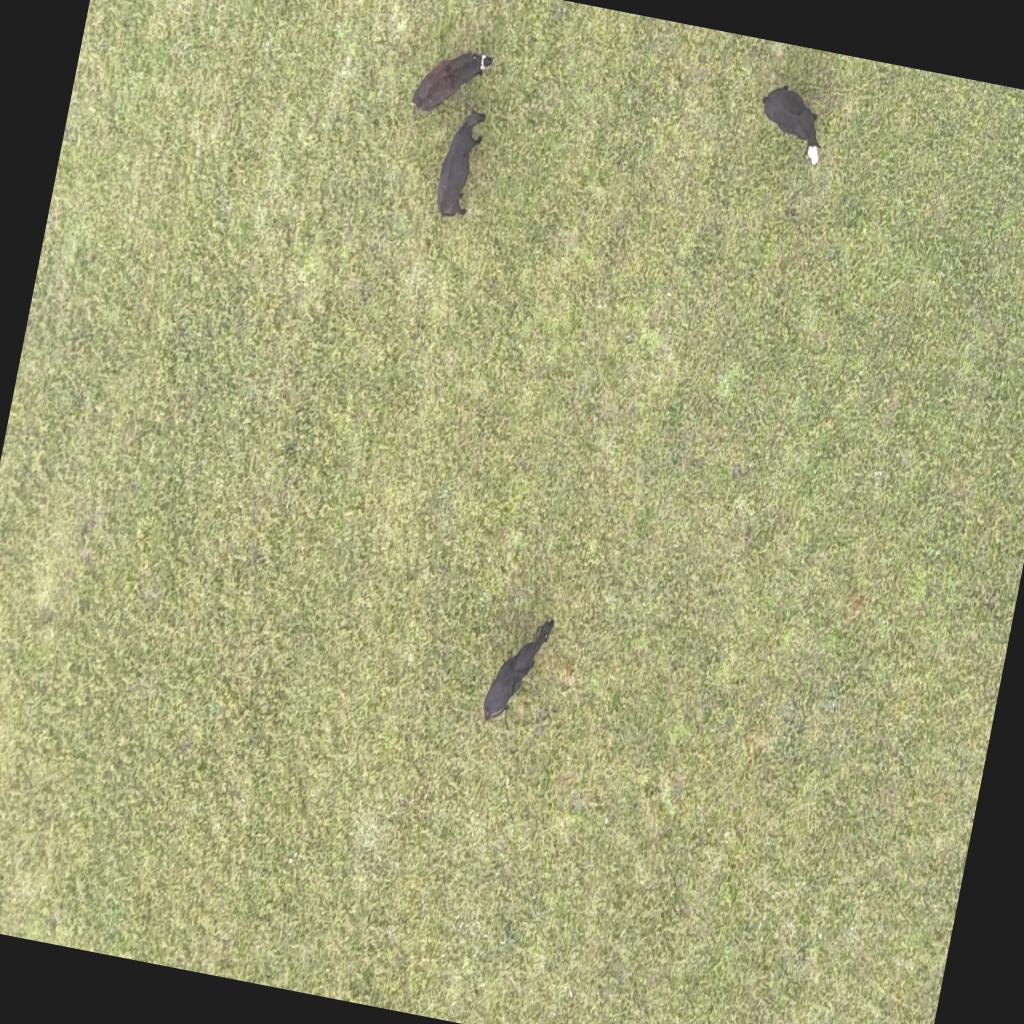cow: (477, 606, 557, 736), (746, 74, 836, 178), (404, 34, 498, 128), (430, 103, 490, 227)
